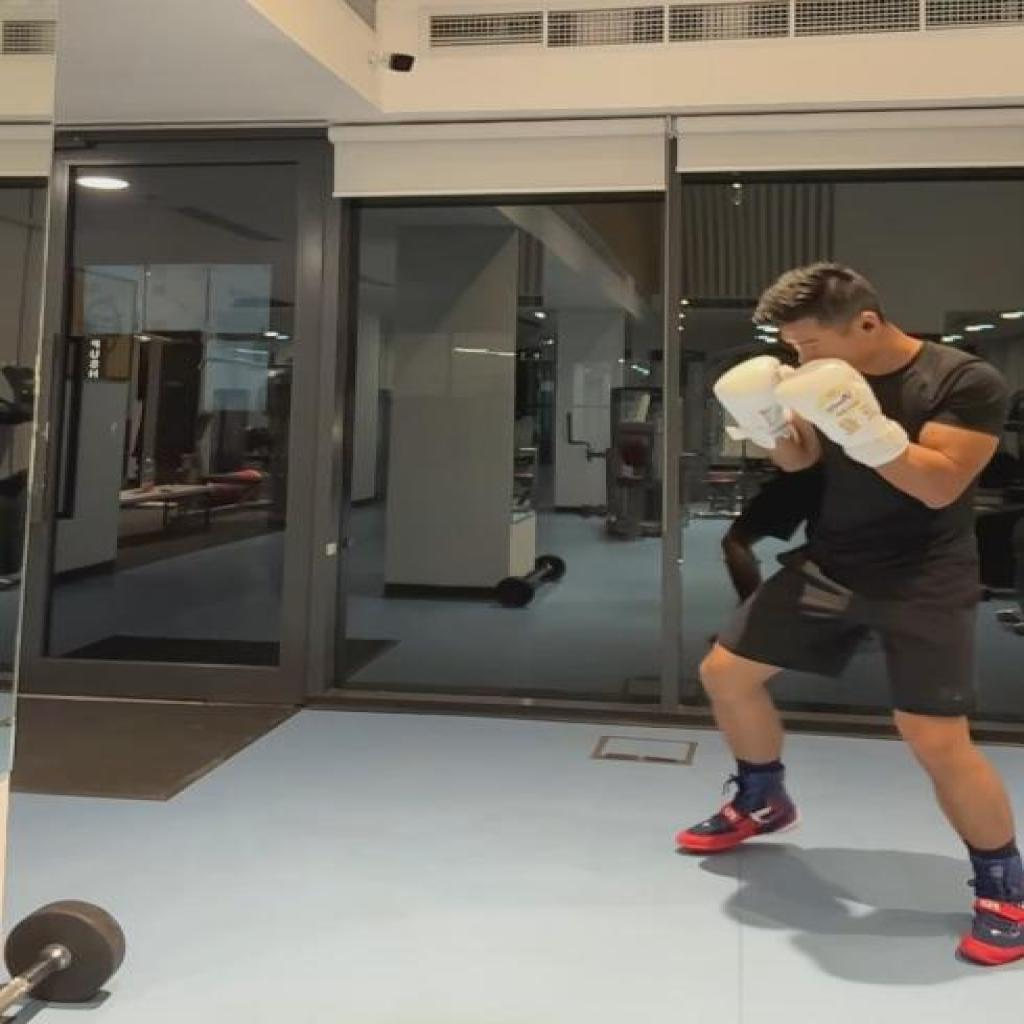no punch: (677, 261, 1024, 971)
